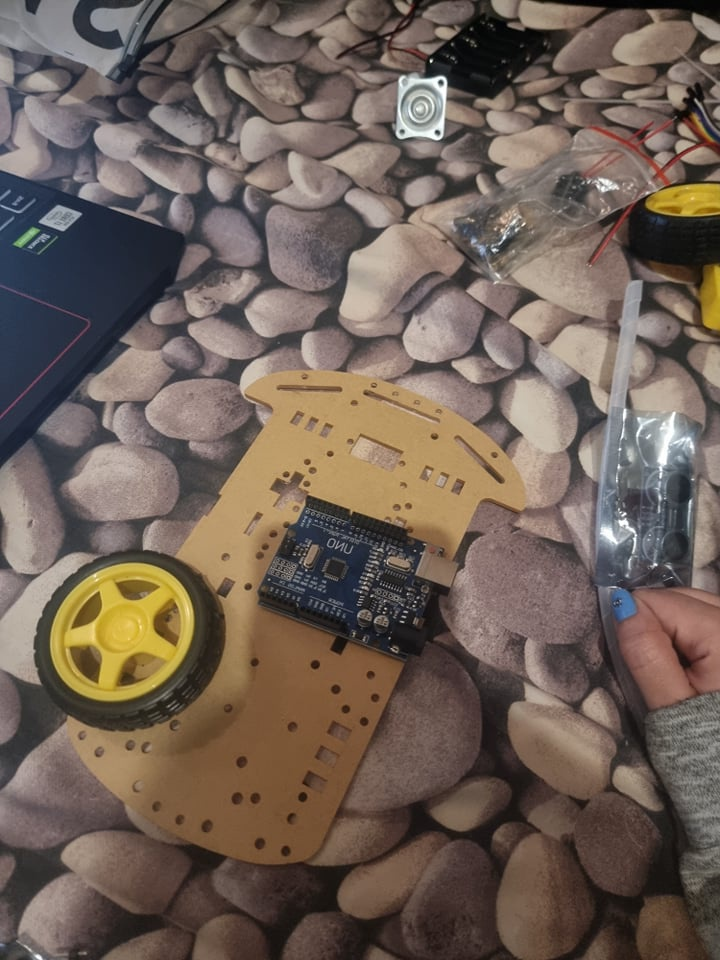BATTERY BOX: (420, 13, 551, 101)
SENSOR: (637, 465, 697, 574)
UNO R3: (257, 490, 464, 661)
